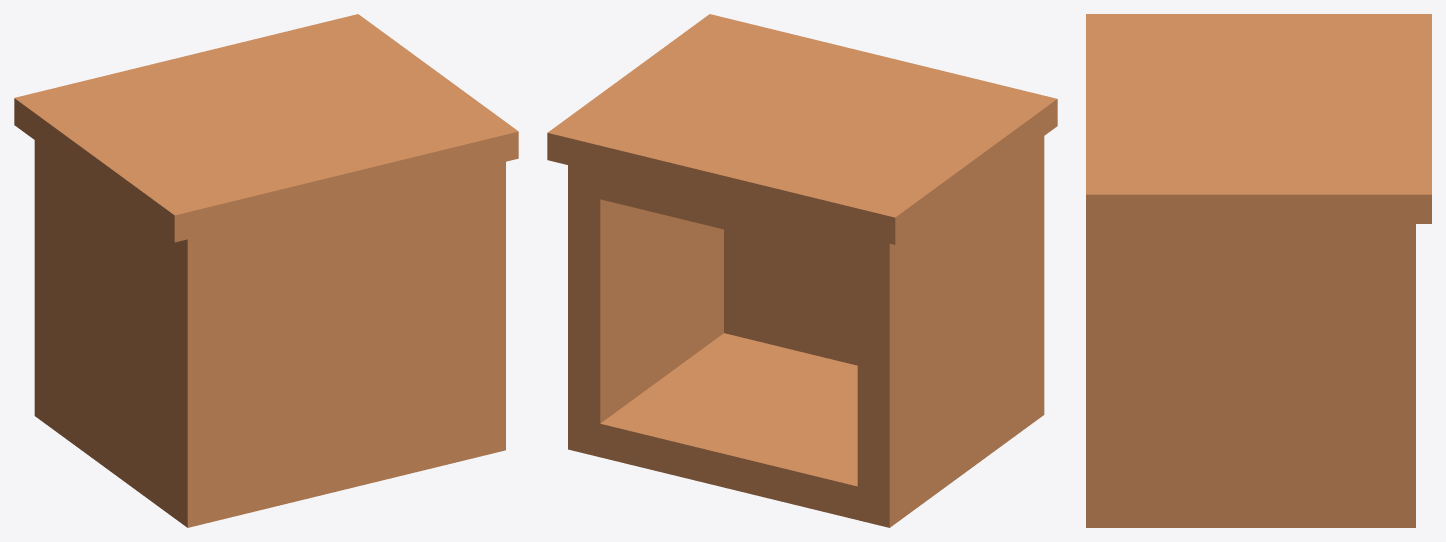
File: CabinetBed.glb
3 renders of one model, left to right at view 1: azimuth 30°, elevation 25°; view 2: azimuth 150°, elevation 25°; view 3: azimuth 270°, elevation 25°, orthographic. The views are drawn at different scales.
Parts seen in each view (by area): view 1: CabinetBed; view 2: CabinetBed; view 3: CabinetBed.
Boxes of the visible parts, left/top/right/bottom form: CabinetBed: left=14, top=14, right=518, bottom=527; CabinetBed: left=547, top=14, right=1057, bottom=527; CabinetBed: left=1086, top=14, right=1431, bottom=527.
Bounding box in the file's own units: 0.8131 × 0.7129 × 0.6572.
